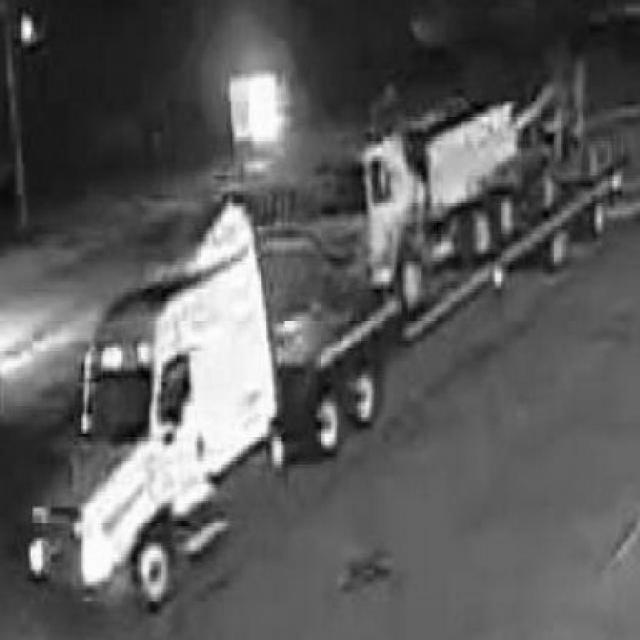Tractor Trailer: (16, 40, 628, 623)
